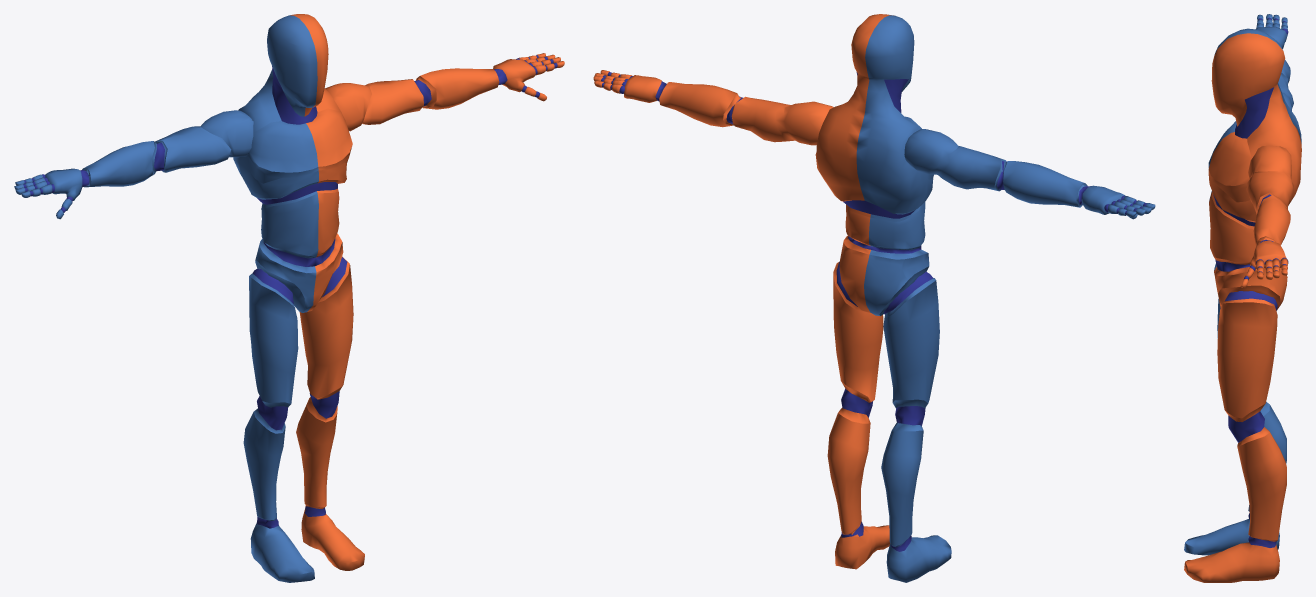
The model's file is model-human.glb.
The picture shows the model from 3 angles, left to right: view 1: azimuth 30°, elevation 25°; view 2: azimuth 150°, elevation 25°; view 3: azimuth 270°, elevation 25°; orthographic projection. The views are drawn at different scales.
Visible parts, largest first — view 1: Mannequin; view 2: Mannequin; view 3: Mannequin.
Part boxes in pixels (bbox=[...]): Mannequin: bbox=[14, 14, 564, 582]; Mannequin: bbox=[593, 14, 1155, 582]; Mannequin: bbox=[1184, 14, 1301, 582].
Bounding box in the file's own units: 1.94 × 1.83 × 0.3696.
1 material, 1 textured.
